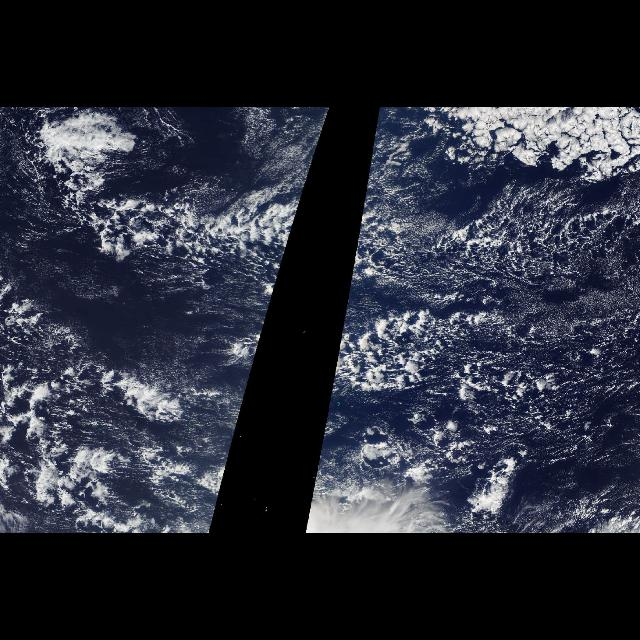Fish: (318, 178, 630, 456), (21, 178, 310, 456)
